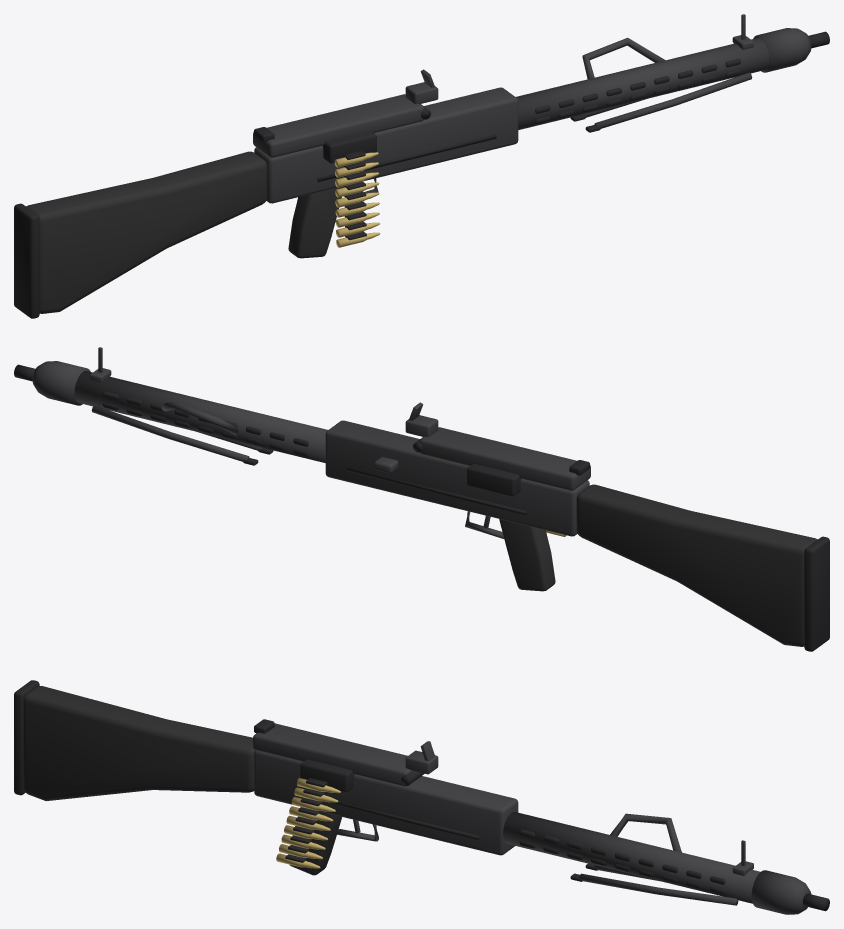
The picture shows the model from 3 angles, top to bottom: view 1: azimuth 30°, elevation 25°; view 2: azimuth 150°, elevation 25°; view 3: azimuth 330°, elevation 25°; orthographic projection.
Parts seen in each view (by area): view 1: SM_MG3; view 2: SM_MG3; view 3: SM_MG3.
Boxes of the visible parts, x1,y1,x2,y2 form: SM_MG3: (14, 14, 829, 318); SM_MG3: (14, 347, 829, 651); SM_MG3: (14, 680, 829, 914).
Size of the model in its own units: 1.35 by 0.2495 by 0.1591.
